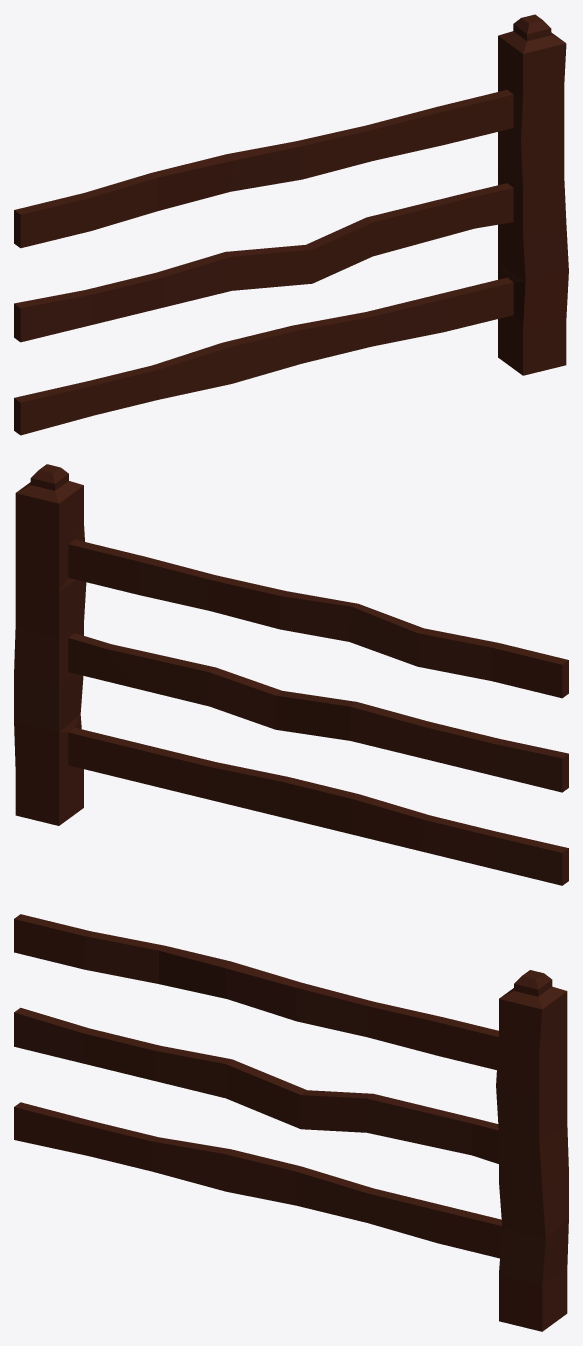
The model's file is Fecne.fbx.
The picture shows the model from 3 angles, top to bottom: view 1: azimuth 30°, elevation 25°; view 2: azimuth 150°, elevation 25°; view 3: azimuth 330°, elevation 25°; orthographic projection.
Visible parts, largest first — view 1: Fence; view 2: Fence; view 3: Fence.
Part boxes in pixels (bbox=[...]): Fence: bbox=[14, 14, 568, 435]; Fence: bbox=[14, 464, 568, 885]; Fence: bbox=[14, 914, 568, 1331].
Size of the model in its own units: 678 by 411 by 56.92.
